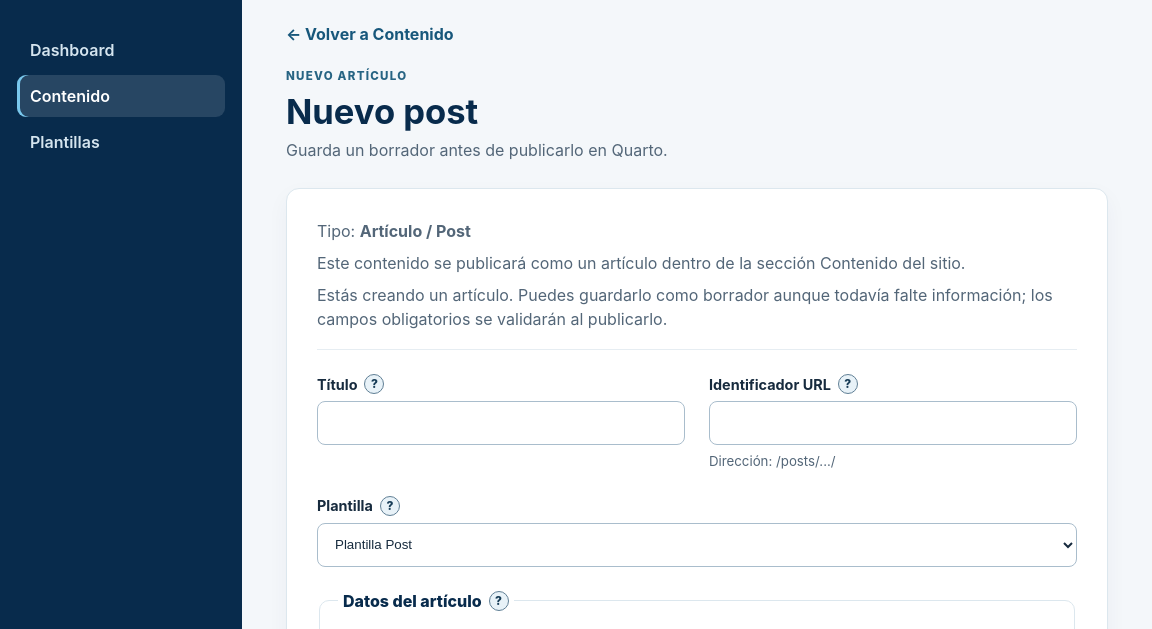
Creación y edición › muestra una etiqueta legible para metadata futura sin renombrar su clave
The width and height of the screenshot is (1152, 629).
Type "Post futuro" into the field labelled "Título" at {"x": 501, "y": 423}, box [317,401,685,445]
(page scrolled)
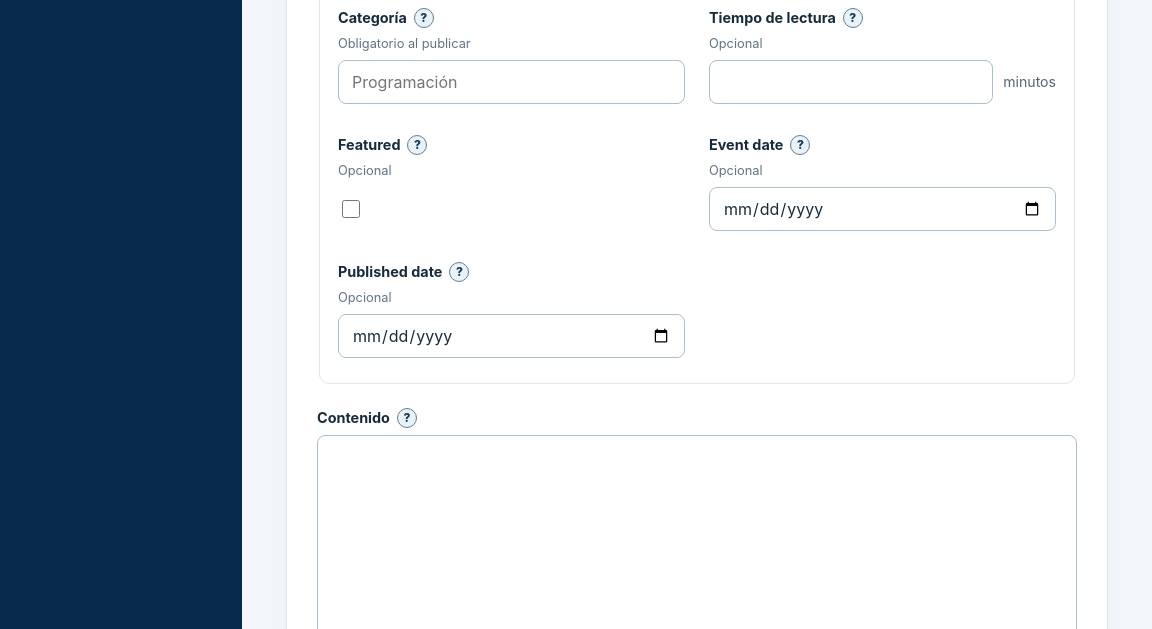
Hover over the button named "Mostrar ayuda" at {"x": 459, "y": 272}, box [449,262,469,282]
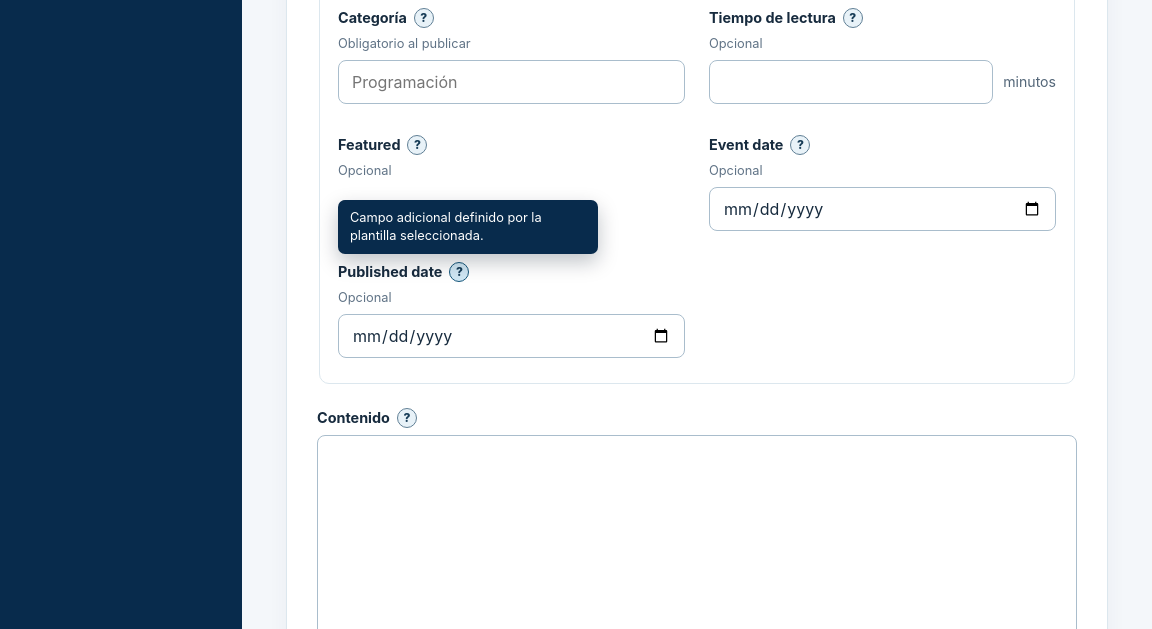
expect the tooltip reads "Campo adicional definido por la plantilla seleccionada.": met, box [350,210,542,243]
Type "2026-10-26" into the date field labelled "Published date" at {"x": 512, "y": 336}, box [338,314,685,358]
(page scrolled)
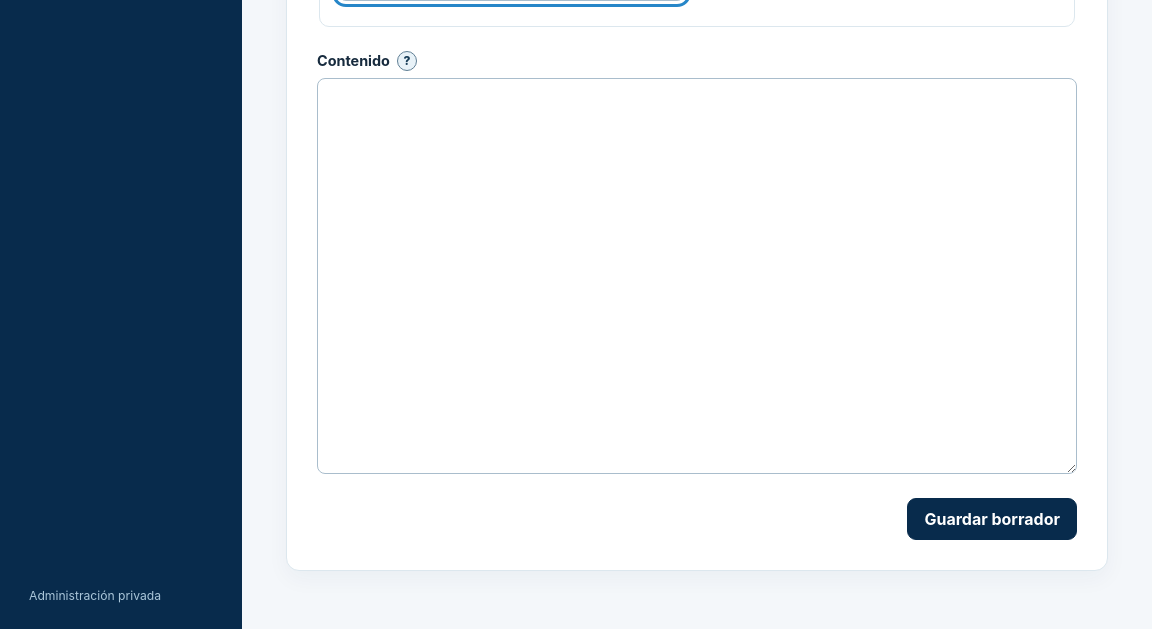
Click the button "Guardar borrador" at {"x": 992, "y": 519}, box [907,498,1077,540]
(page scrolled)
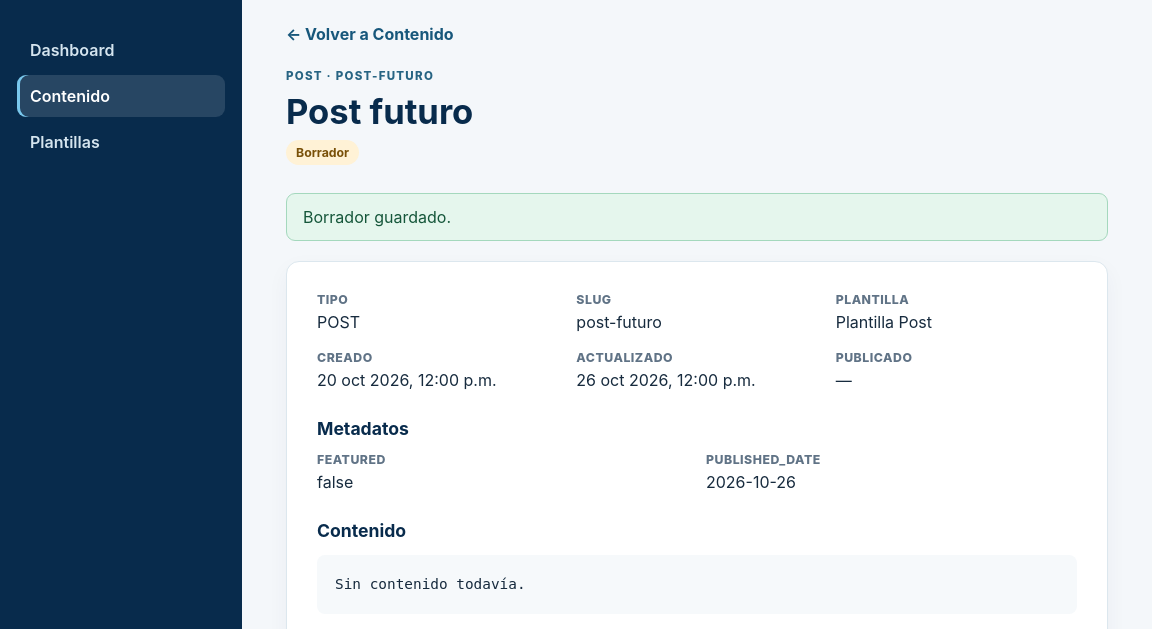
expect the text "Borrador guardado." is shown: met, box [286,193,1108,241]
